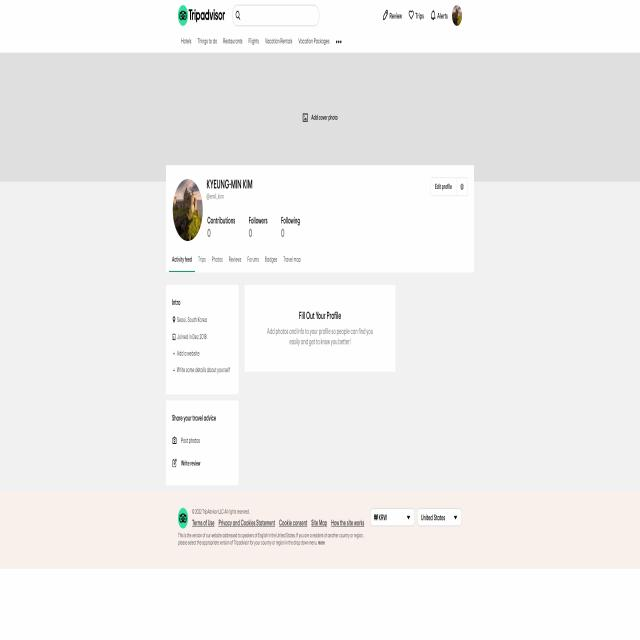menu-bar: (376, 4, 462, 26)
search: (229, 5, 320, 28)
side-panel: (166, 283, 240, 488)
tab-bar: (169, 250, 303, 271), (178, 35, 344, 49)
